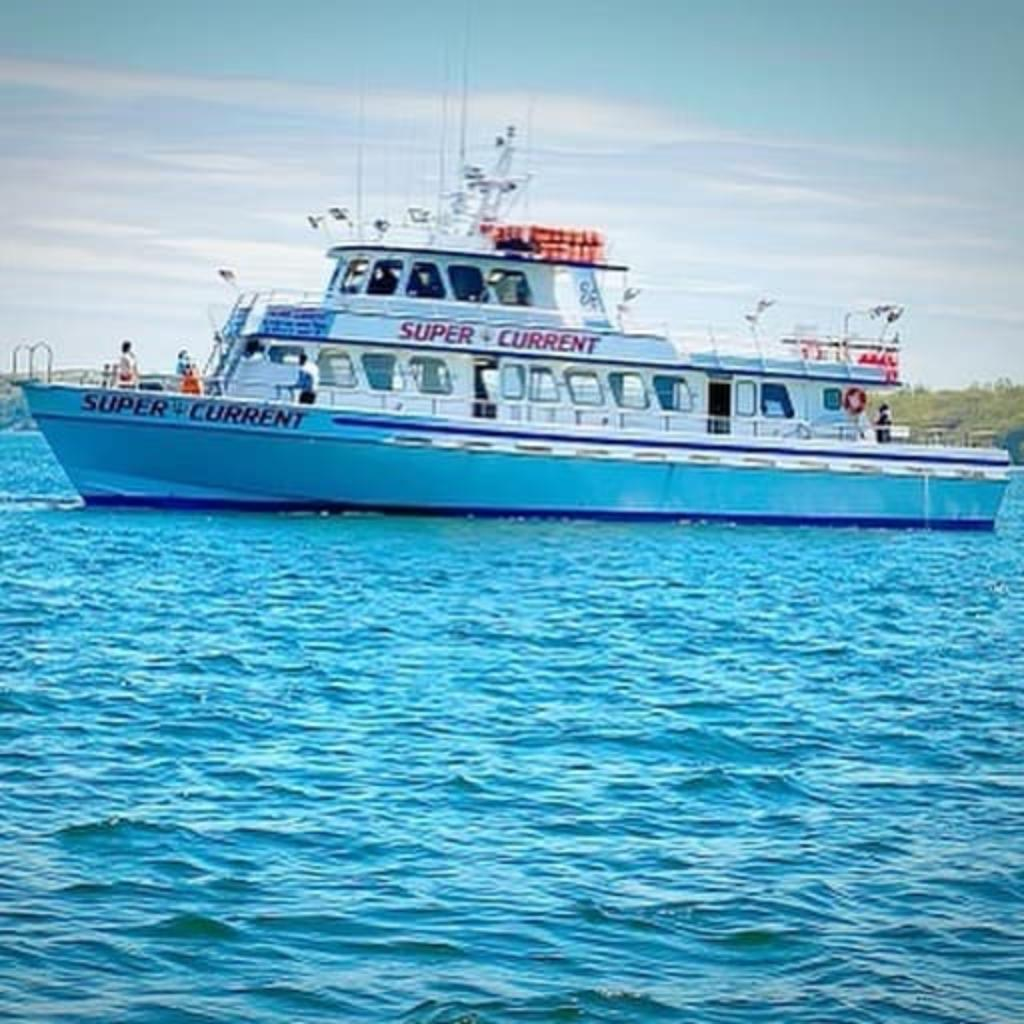PassengerShip: (8, 154, 1016, 540)
